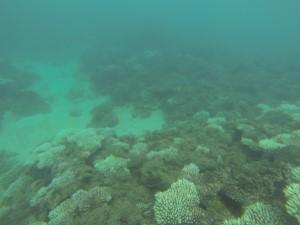bleached_corals: (22, 117, 106, 219), (42, 178, 114, 225), (154, 180, 200, 225), (224, 202, 283, 225), (93, 153, 133, 182), (284, 183, 300, 222), (147, 148, 179, 165), (182, 161, 202, 181)
